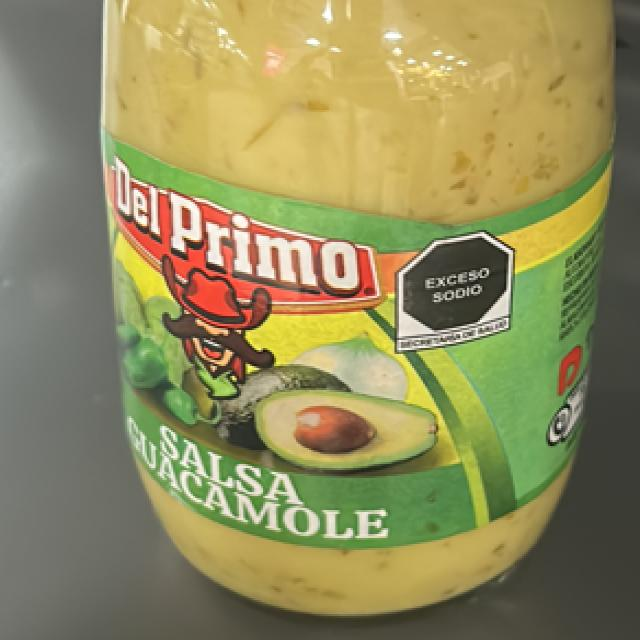delPrimoSalsa: (104, 8, 600, 546)
